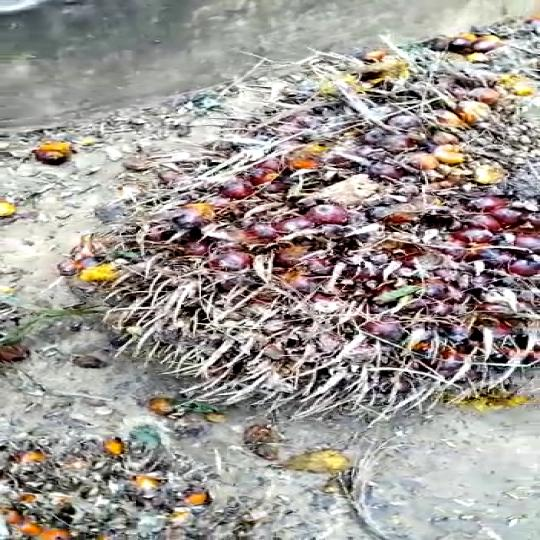masak: (71, 115, 540, 424)
